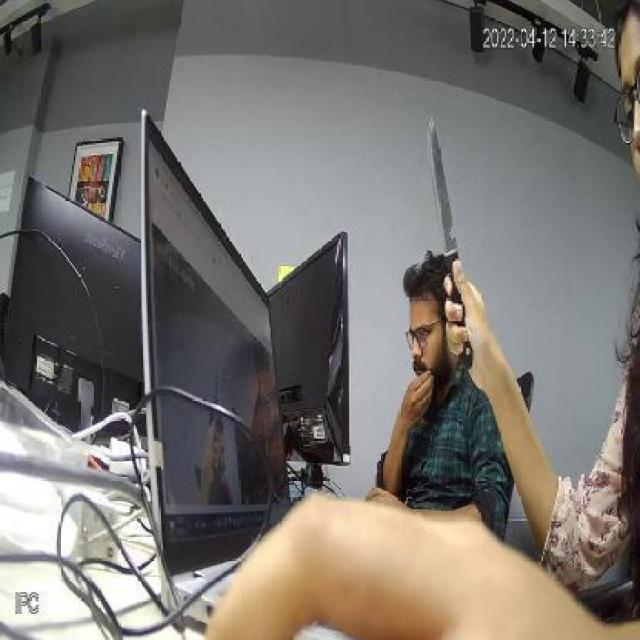-: (425, 116, 466, 276)
